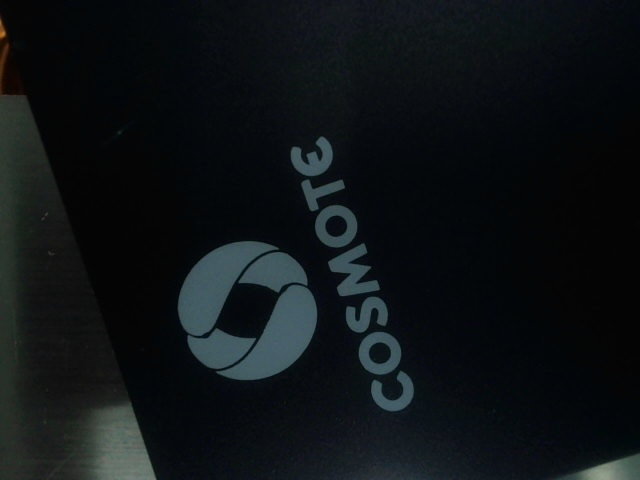AU_COSMOTE: (158, 135, 419, 410)
